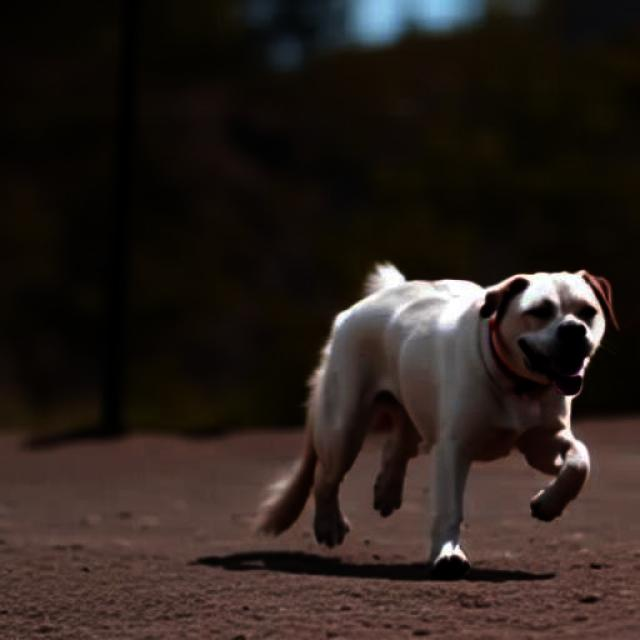Dog: (253, 260, 621, 580)
